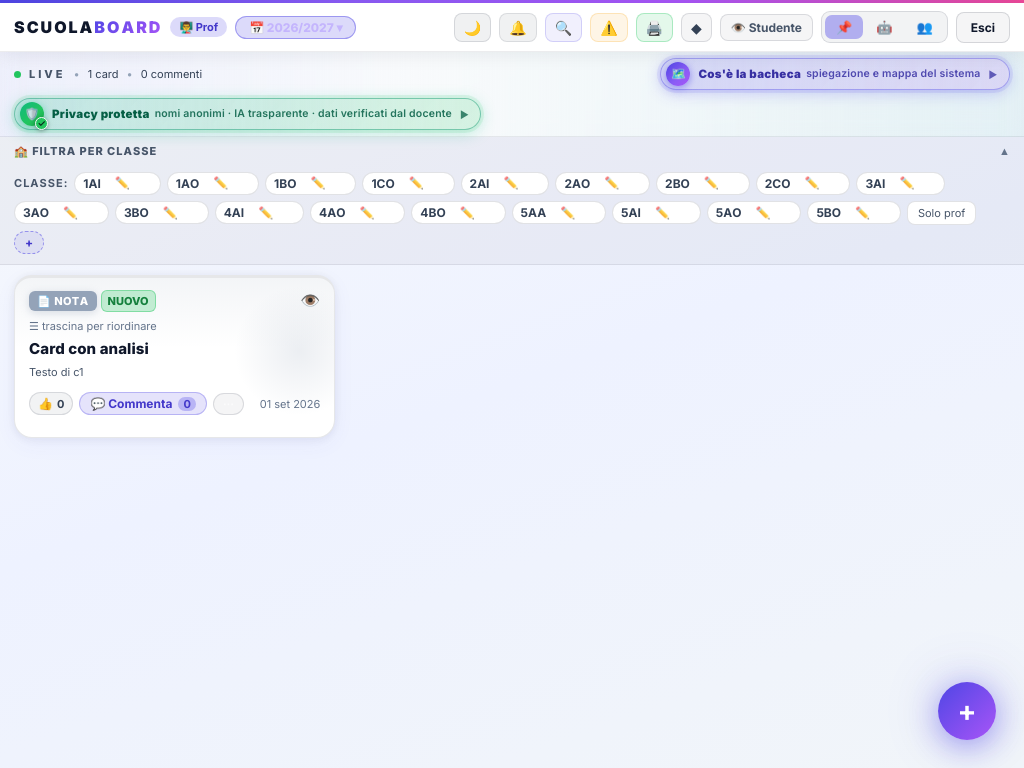
Test: Eliminazione analisi AI (prof) › rimuove aiAnalisi dalla card e cancella il doc ai_results
Click the text "Card con analisi": (89, 348) [29, 338, 149, 358]
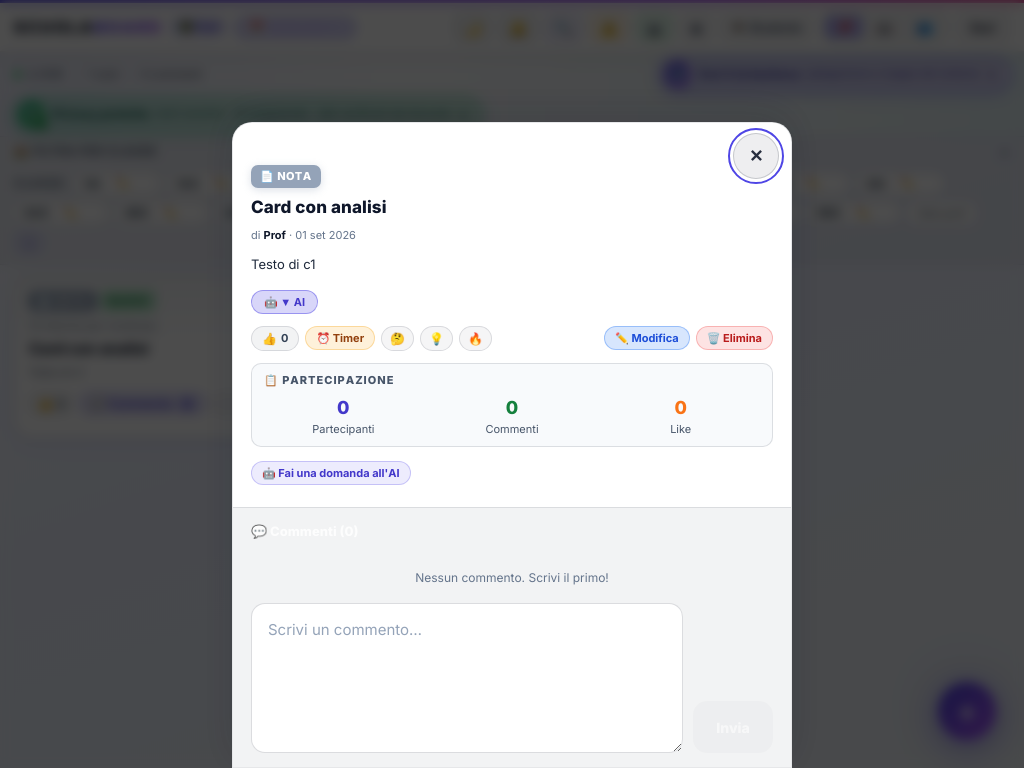
Check: the button named "Chiudi card" is shown, box [733, 134, 779, 180]
Click the button "🤖 ▼ AI": (285, 302) [251, 290, 318, 314]
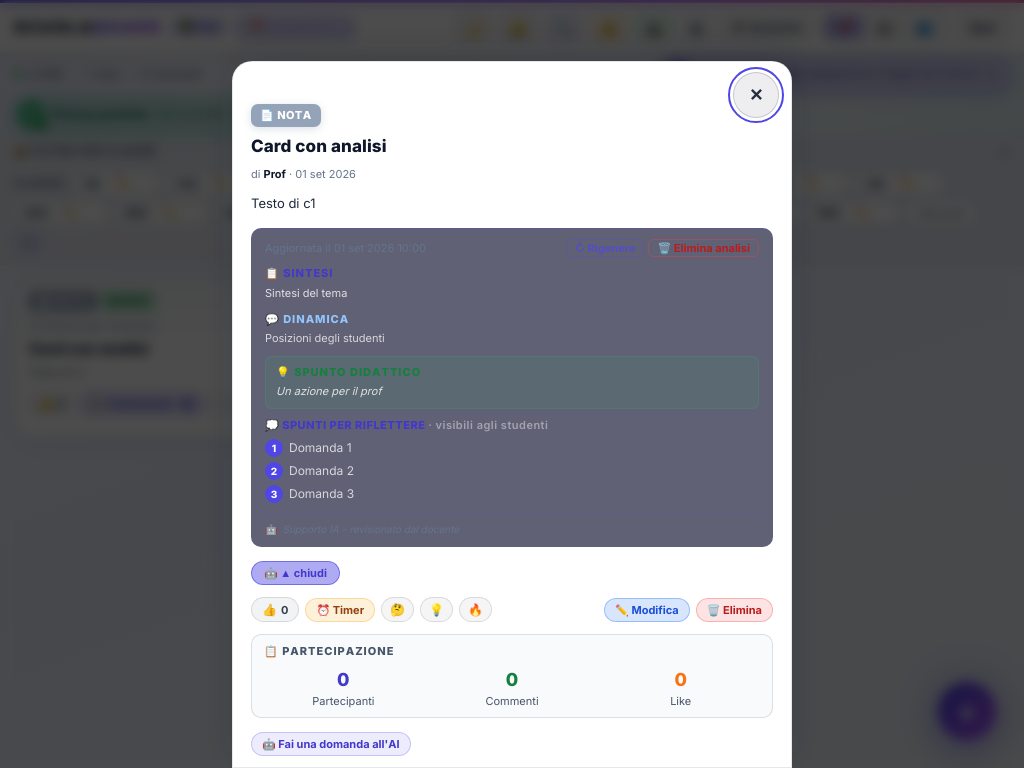
Check: the button "↻ Rigenera" is shown, box [566, 240, 644, 258]
Click the button "🗑️ Elimina analisi": (704, 248) [648, 240, 759, 258]
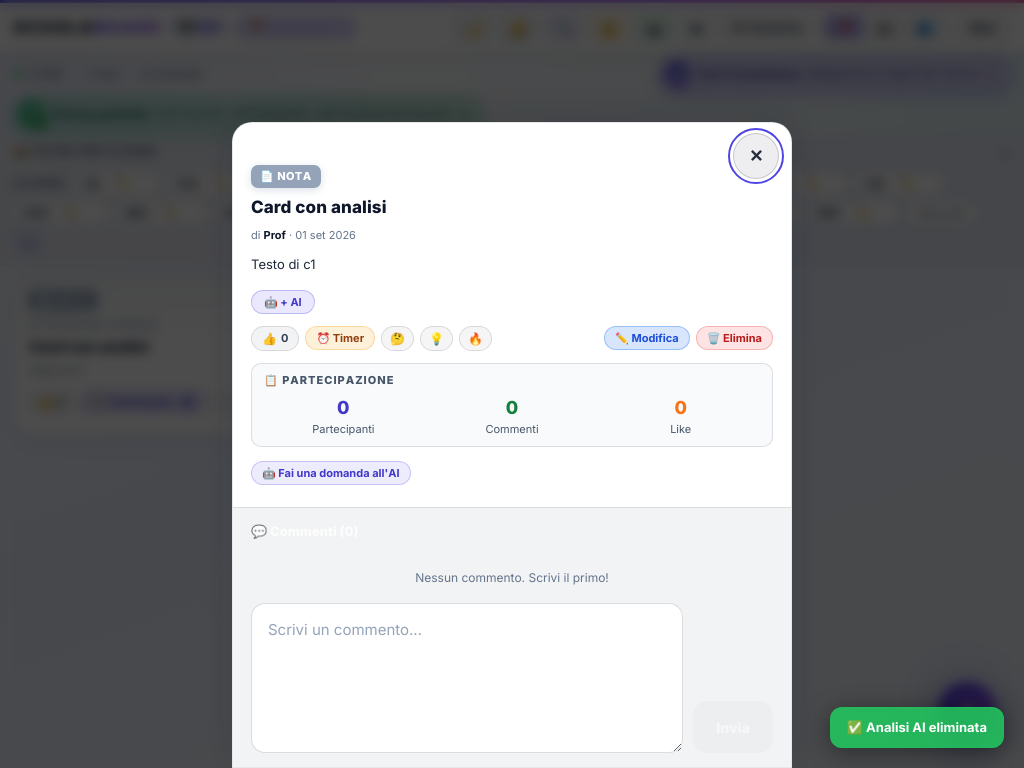
Check: the text "Sintesi del tema" is gone
